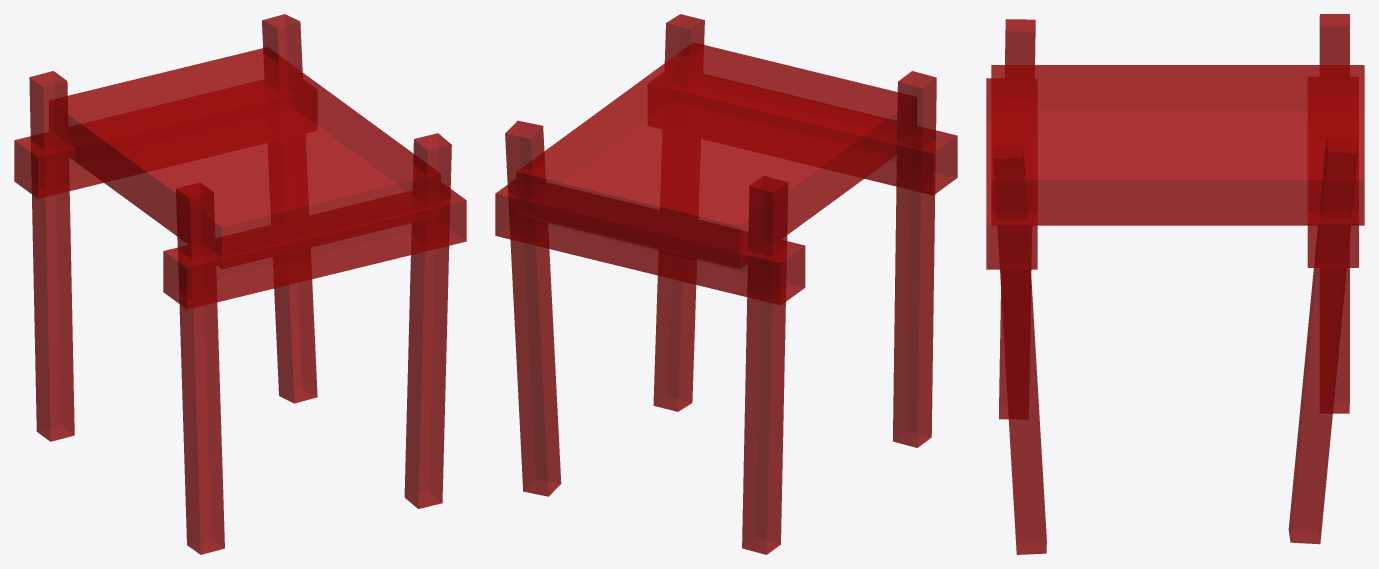
Rendered from SM_Prop_Jetty_01_Collision.fbx.
3 renders of one model, left to right at view 1: azimuth 30°, elevation 25°; view 2: azimuth 150°, elevation 25°; view 3: azimuth 270°, elevation 25°, orthographic. The views are drawn at different scales.
Parts seen in each view (by area): view 1: SM_Prop_Jetty_01_Collision; view 2: SM_Prop_Jetty_01_Collision; view 3: SM_Prop_Jetty_01_Collision.
Part boxes in pixels (bbox=[...]): SM_Prop_Jetty_01_Collision: bbox=[14, 14, 466, 554]; SM_Prop_Jetty_01_Collision: bbox=[495, 14, 957, 554]; SM_Prop_Jetty_01_Collision: bbox=[986, 14, 1364, 554].
Bounding box in the file's own units: 207 × 266 × 225.
